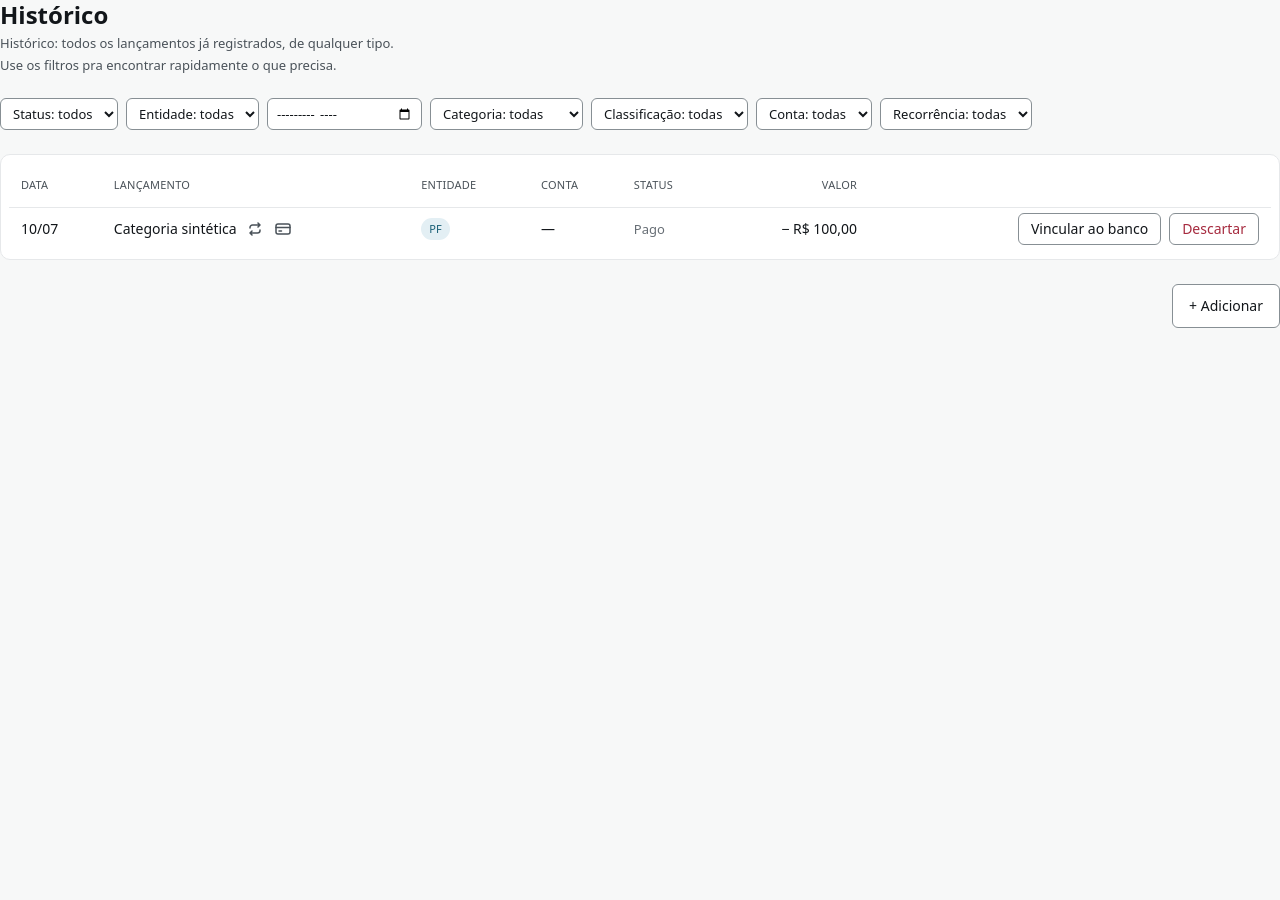
Test: Histórico — Descartar lançamento na linha › o botão abre a confirmação sem abrir a edição da linha
This screenshot has width=1280, height=900.
Step 1. Click the button "Descartar" → (1214, 229), box [1169,213,1259,245]
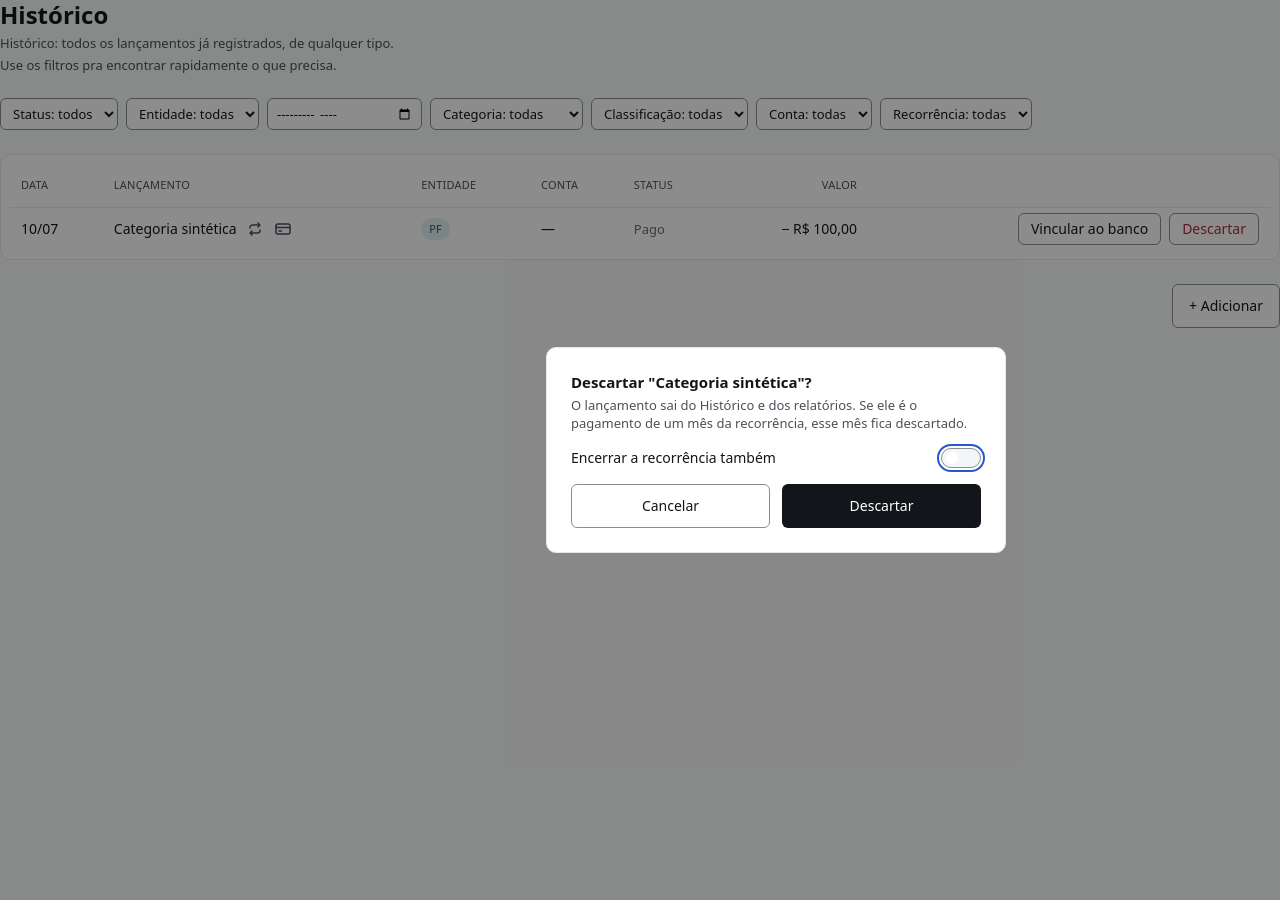
Check: the dialog "Descartar \"Categoria sintética\"?" is shown, box [546,347,1006,553]
